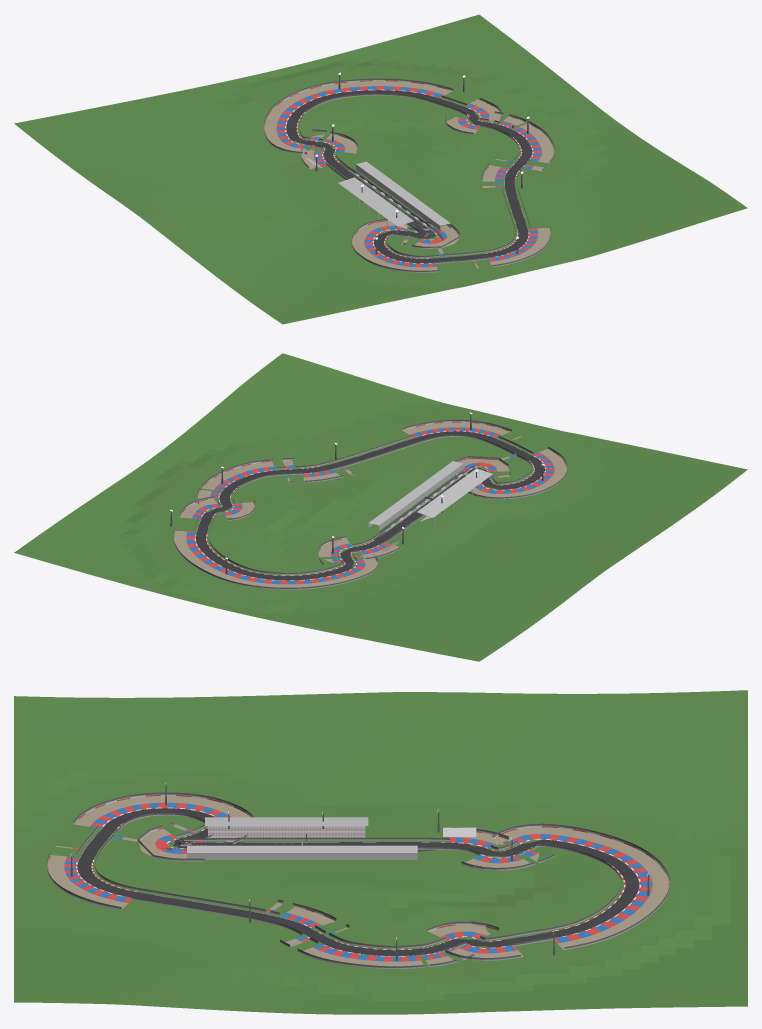
The model's file is f1_track.glb.
The picture shows the model from 3 angles, top to bottom: view 1: azimuth 30°, elevation 25°; view 2: azimuth 150°, elevation 25°; view 3: azimuth 270°, elevation 25°; orthographic projection. The views are drawn at different scales.
Visible parts, largest first — view 1: SM_F1_Terrain_Base, SM_F1_Gravel_Traps, SM_F1_Track_Surface, SM_F1_Catch_Fences, SM_F1_Runoff_Red, SM_F1_Runoff_Blue, SM_F1_Concrete_Walls, SM_F1_Paddock_Garages, SM_F1_Main_Grandstand; view 2: SM_F1_Terrain_Base, SM_F1_Gravel_Traps, SM_F1_Track_Surface, SM_F1_Catch_Fences, SM_F1_Concrete_Walls, SM_F1_Runoff_Red, SM_F1_Runoff_Blue, SM_F1_Paddock_Garages, SM_F1_Main_Grandstand, SM_F1_Kerbs_White, SM_F1_Kerbs_Red; view 3: SM_F1_Terrain_Base, SM_F1_Gravel_Traps, SM_F1_Track_Surface, SM_F1_Catch_Fences, SM_F1_Concrete_Walls, SM_F1_Paddock_Garages, SM_F1_Runoff_Red, SM_F1_Runoff_Blue, SM_F1_Main_Grandstand, SM_F1_Kerbs_White, SM_F1_Kerbs_Red.
Part boxes in pixels (left/top/right/bottom): SM_F1_Terrain_Base: left=14, top=14, right=747, bottom=324; SM_F1_Gravel_Traps: left=264, top=81, right=554, bottom=270; SM_F1_Track_Surface: left=286, top=90, right=532, bottom=263; SM_F1_Catch_Fences: left=264, top=78, right=554, bottom=271; SM_F1_Runoff_Red: left=276, top=86, right=541, bottom=267; SM_F1_Runoff_Blue: left=276, top=86, right=541, bottom=267; SM_F1_Concrete_Walls: left=264, top=79, right=554, bottom=272; SM_F1_Paddock_Garages: left=356, top=161, right=450, bottom=230; SM_F1_Main_Grandstand: left=338, top=177, right=413, bottom=233; SM_F1_Terrain_Base: left=14, top=353, right=747, bottom=661; SM_F1_Gravel_Traps: left=174, top=422, right=566, bottom=587; SM_F1_Track_Surface: left=196, top=431, right=544, bottom=580; SM_F1_Catch_Fences: left=173, top=419, right=567, bottom=588; SM_F1_Concrete_Walls: left=173, top=421, right=567, bottom=589; SM_F1_Runoff_Red: left=186, top=427, right=554, bottom=584; SM_F1_Runoff_Blue: left=186, top=427, right=554, bottom=584; SM_F1_Paddock_Garages: left=368, top=461, right=463, bottom=530; SM_F1_Main_Grandstand: left=417, top=468, right=492, bottom=525; SM_F1_Kerbs_White: left=194, top=430, right=545, bottom=580; SM_F1_Kerbs_Red: left=194, top=430, right=545, bottom=580; SM_F1_Terrain_Base: left=14, top=690, right=747, bottom=1014; SM_F1_Gravel_Traps: left=47, top=796, right=669, bottom=966; SM_F1_Track_Surface: left=77, top=808, right=639, bottom=956; SM_F1_Catch_Fences: left=46, top=792, right=669, bottom=967; SM_F1_Concrete_Walls: left=46, top=794, right=669, bottom=968; SM_F1_Paddock_Garages: left=187, top=845, right=417, bottom=859; SM_F1_Runoff_Red: left=64, top=802, right=652, bottom=961; SM_F1_Runoff_Blue: left=64, top=802, right=652, bottom=961; SM_F1_Main_Grandstand: left=205, top=817, right=368, bottom=838; SM_F1_Kerbs_White: left=75, top=807, right=640, bottom=956; SM_F1_Kerbs_Red: left=76, top=807, right=640, bottom=956.
Bounding box in the file's own units: 700 × 29.96 × 700.
